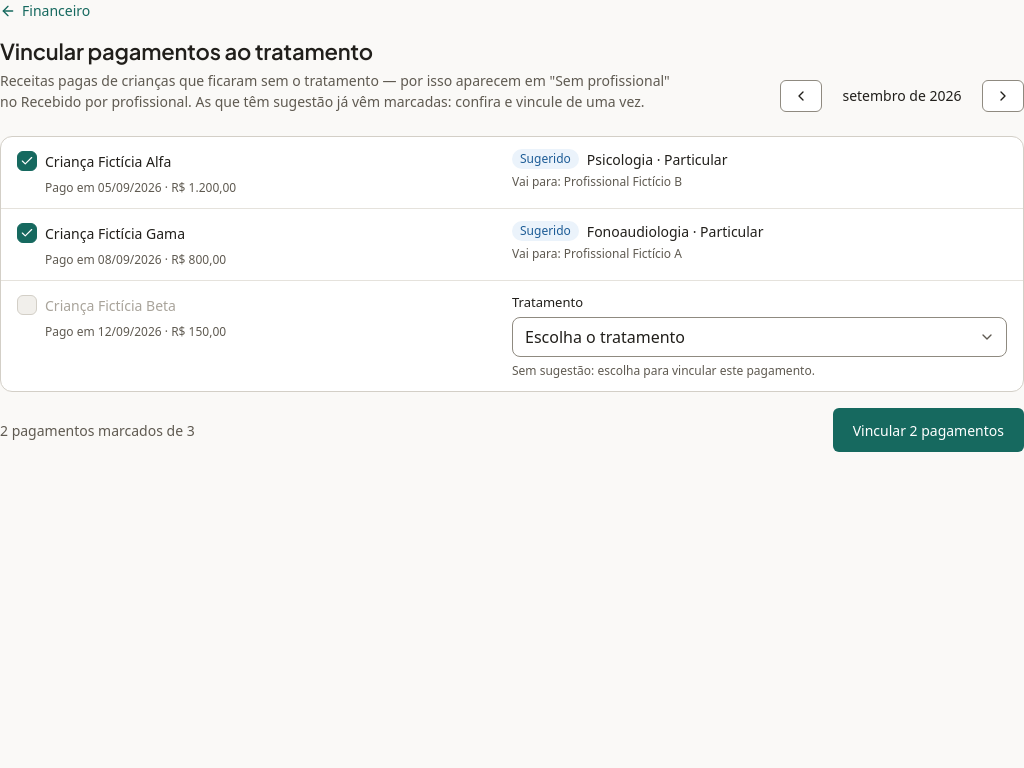
Test: Vincular pagamentos — vazio, erro e acessibilidade › deve não ter violações axe na lista, nem com uma linha recusada
Click the button "Vincular 2 pagamentos": point(928, 430) [833,408,1023,452]
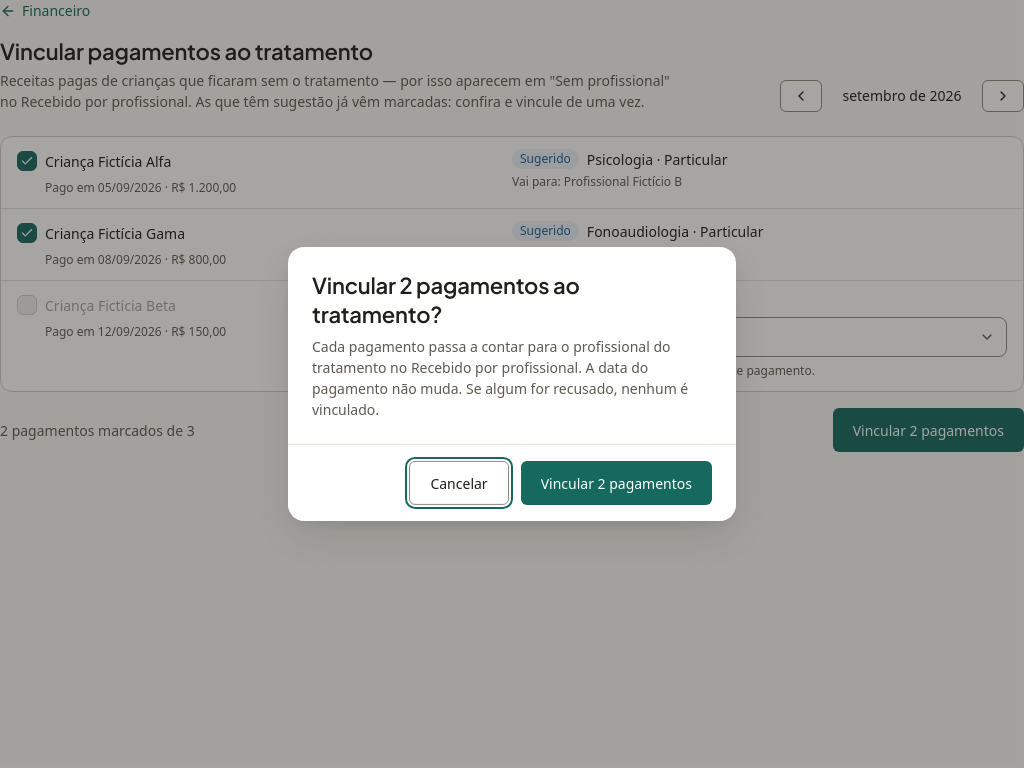
Click the button "Vincular 2 pagamentos": point(616, 483) [521,461,712,505]
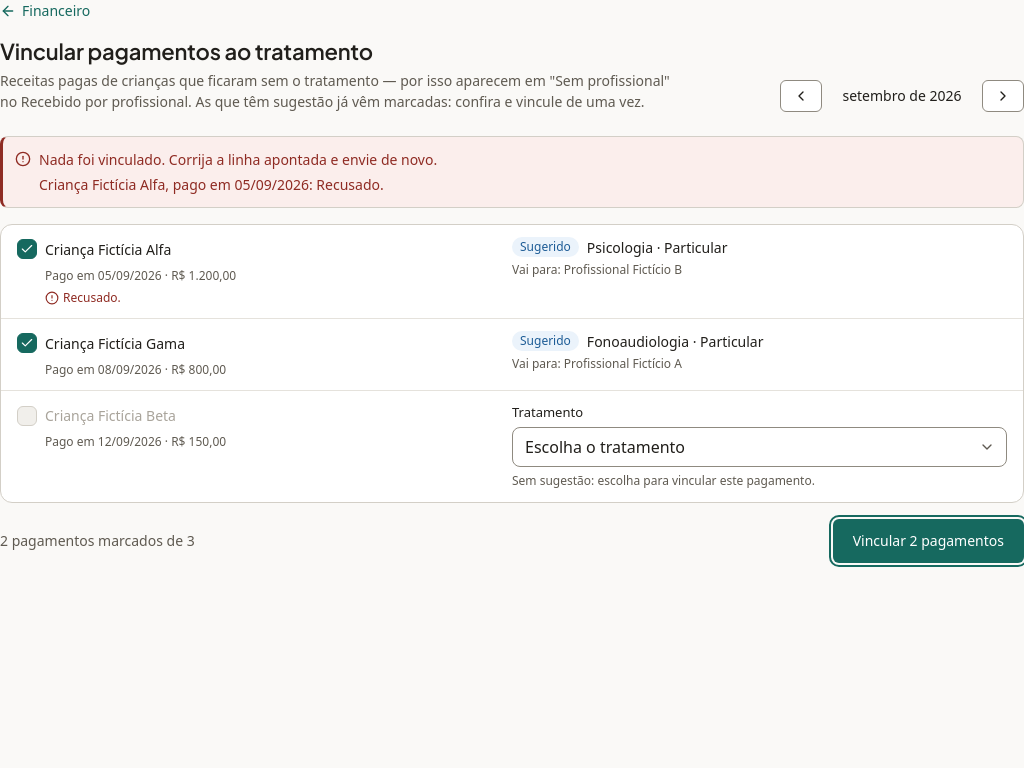
expect the text "Nada foi vinculado. Corrija a linha apontada e envie de novo." is shown: met, box [39,149,437,170]
